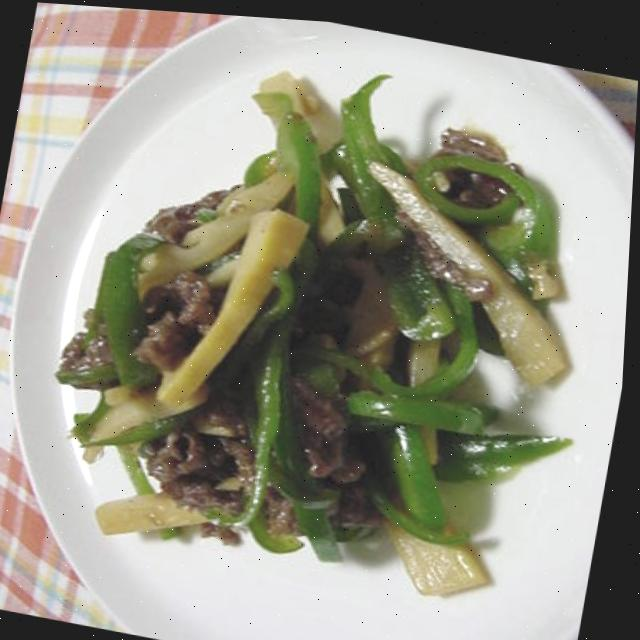牛肉菜式: (7, 25, 639, 640)
